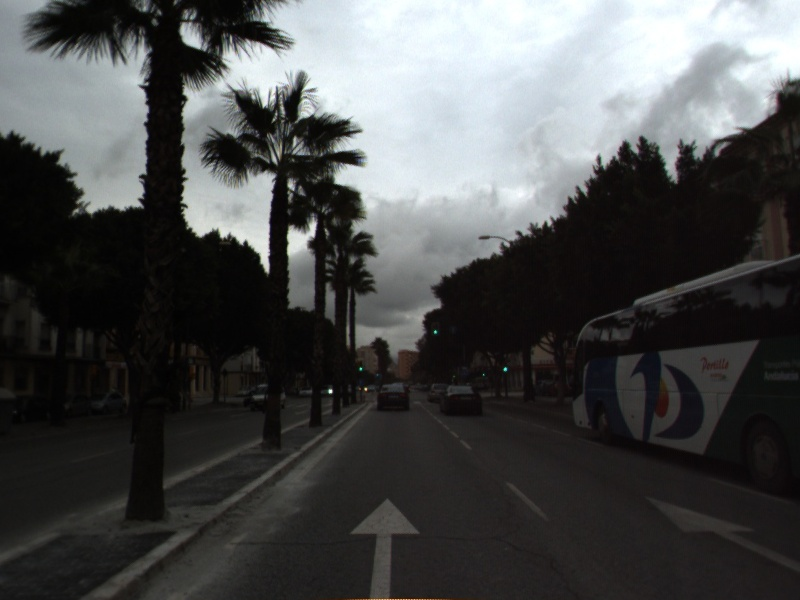STRAIGHT: (640, 493, 800, 573), (346, 493, 424, 600)
